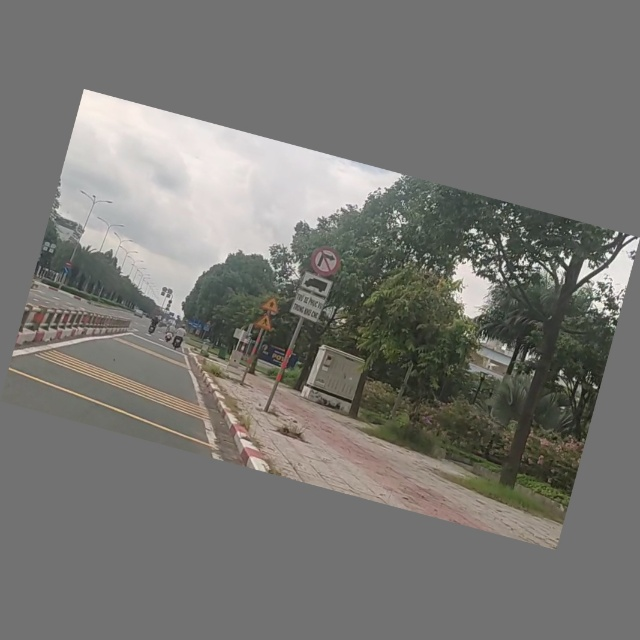P.123b: (305, 241, 343, 279)
S.505a*Xe tai: (288, 270, 334, 325)
W.207: (260, 294, 283, 315)
W.224: (252, 312, 276, 332)
